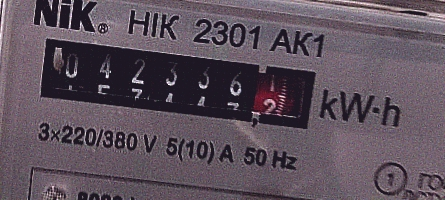0: (60, 49, 80, 79)
1: (263, 69, 278, 93)
2: (128, 54, 148, 85), (258, 95, 277, 115)
3: (192, 59, 212, 91), (160, 57, 179, 87)
4: (95, 49, 115, 80)
6: (225, 66, 246, 98)
screen: (25, 22, 329, 141)
